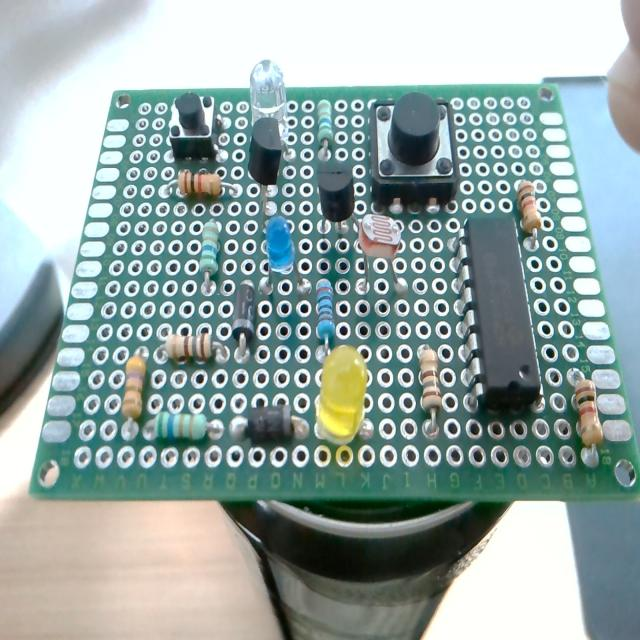IC: (462, 218, 542, 414)
cds: (354, 210, 405, 297)
diode: (232, 404, 308, 441), (232, 281, 256, 345)
led: (318, 348, 371, 452), (260, 210, 306, 296), (249, 60, 289, 142)
resistor: (119, 352, 148, 436), (418, 347, 442, 426), (576, 379, 602, 447), (315, 276, 336, 356), (152, 411, 207, 440), (200, 218, 220, 294), (165, 332, 214, 362), (517, 180, 541, 235), (178, 170, 222, 197), (316, 100, 332, 151)
switch: (368, 92, 462, 212), (170, 91, 218, 162)
transistor: (248, 118, 284, 214), (317, 166, 354, 240)
